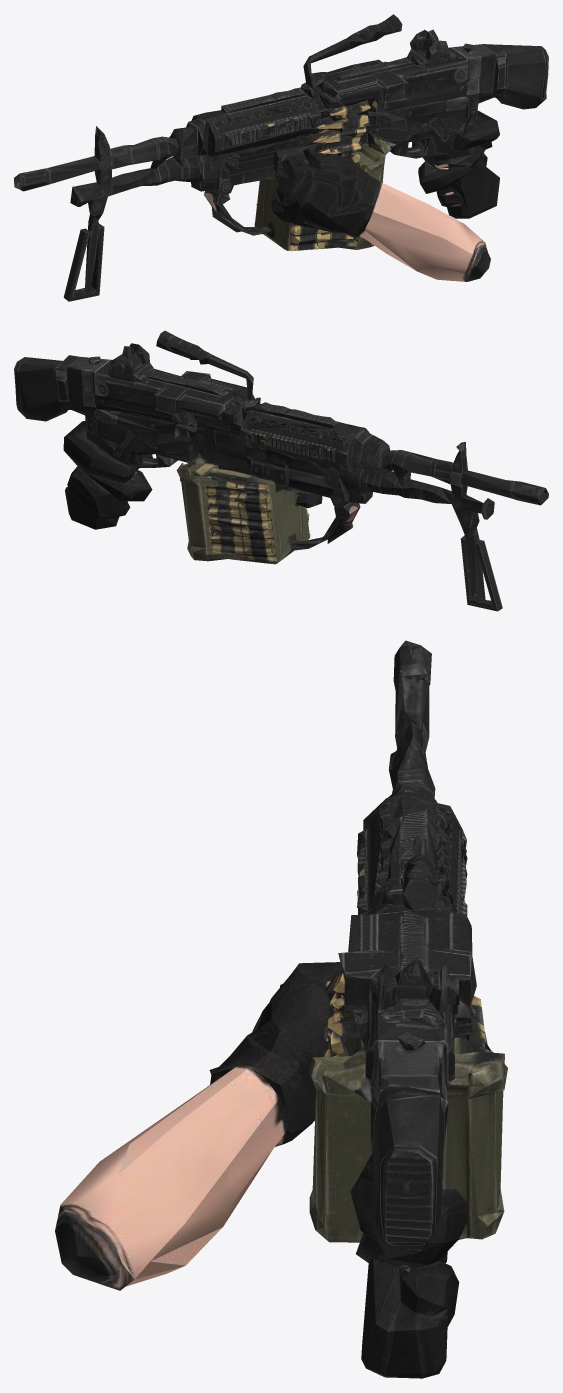
The model's file is arm_chaingun.glb.
The picture shows the model from 3 angles, top to bottom: view 1: azimuth 30°, elevation 25°; view 2: azimuth 150°, elevation 25°; view 3: azimuth 270°, elevation 25°; orthographic projection. The views are drawn at different scales.
Parts seen in each view (by area): view 1: output_unwrapped; view 2: output_unwrapped; view 3: output_unwrapped.
Part boxes in pixels (x1,y1,x2,y2): output_unwrapped: (14,14,548,301); output_unwrapped: (14,330,548,611); output_unwrapped: (55,640,507,1378).
Size of the model in its own units: 1.9 by 0.7287 by 0.7088.
Materials: 1 (1 with a texture image).
